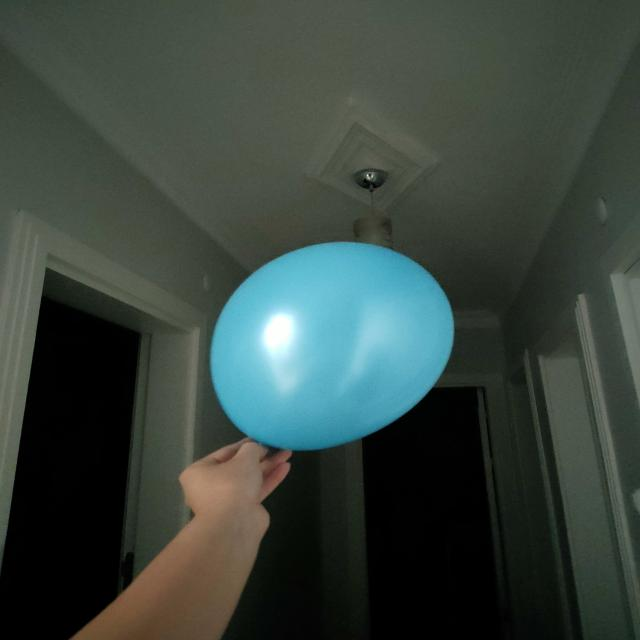blue: (215, 243, 457, 453)
